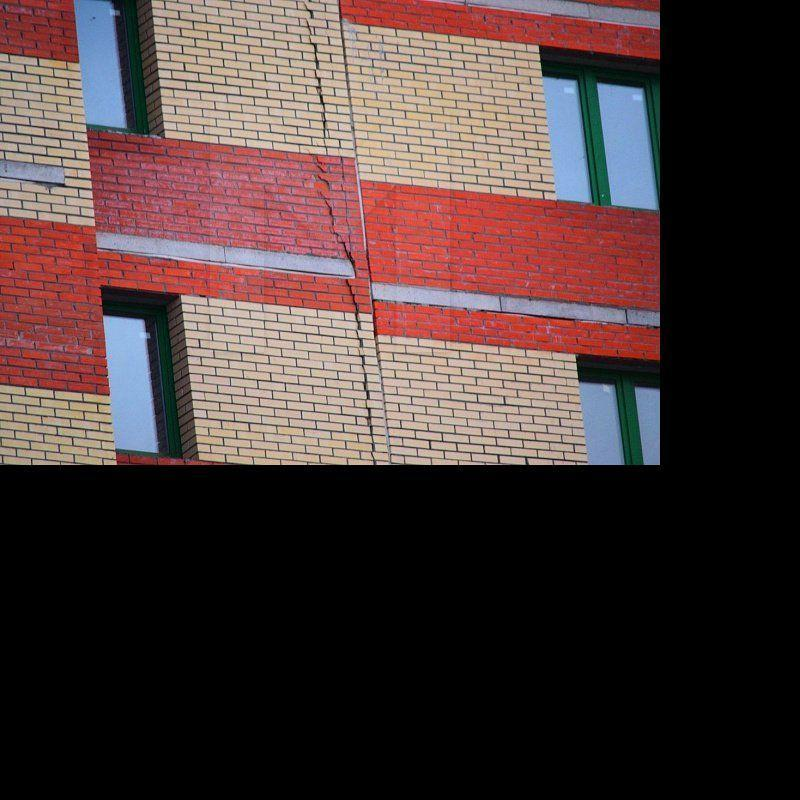crack: (325, 156, 356, 278), (309, 36, 331, 153), (358, 348, 376, 466), (345, 279, 363, 348), (316, 173, 329, 188), (303, 2, 314, 19), (304, 17, 313, 35), (313, 162, 324, 173), (318, 190, 327, 199)
